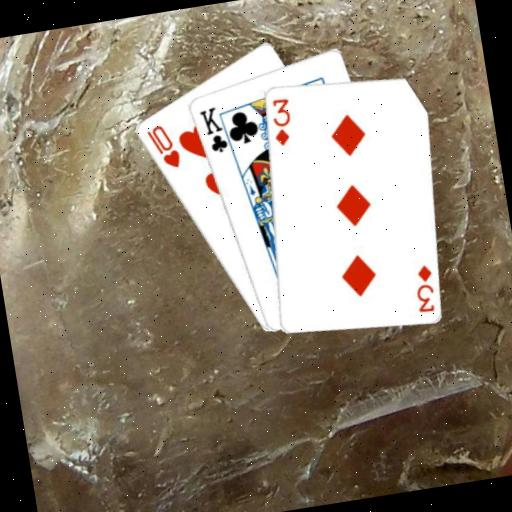10H: (142, 119, 183, 173)
3D: (266, 93, 297, 148), (408, 261, 439, 315)
KC: (196, 101, 236, 159)
